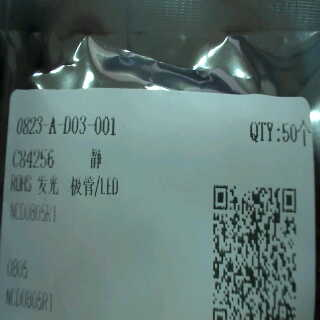LED: (36, 170, 125, 201)
